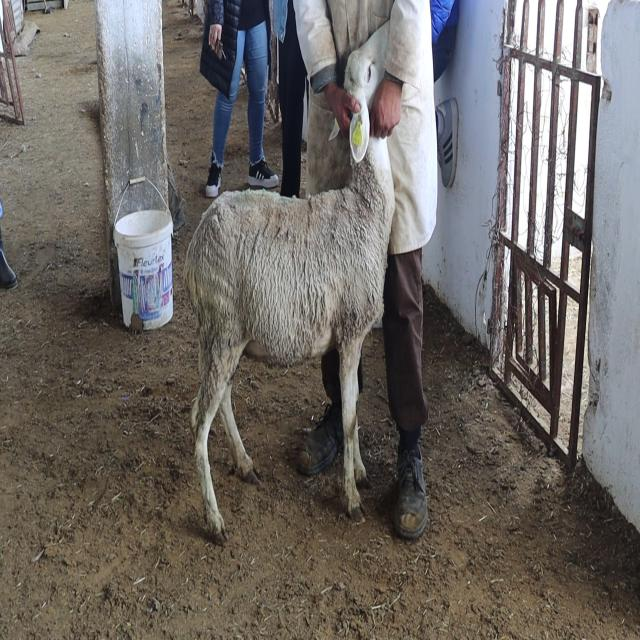Score_1: (183, 21, 394, 539)
